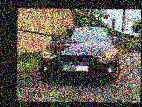car: (33, 23, 124, 87)
